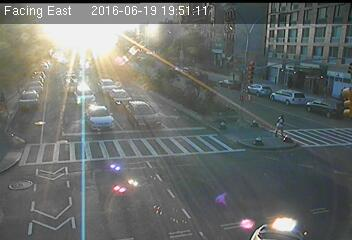neg: (236, 56, 263, 92), (234, 100, 249, 122), (10, 79, 23, 95), (322, 77, 333, 92), (1, 105, 8, 117)
pos: (269, 112, 291, 142)
